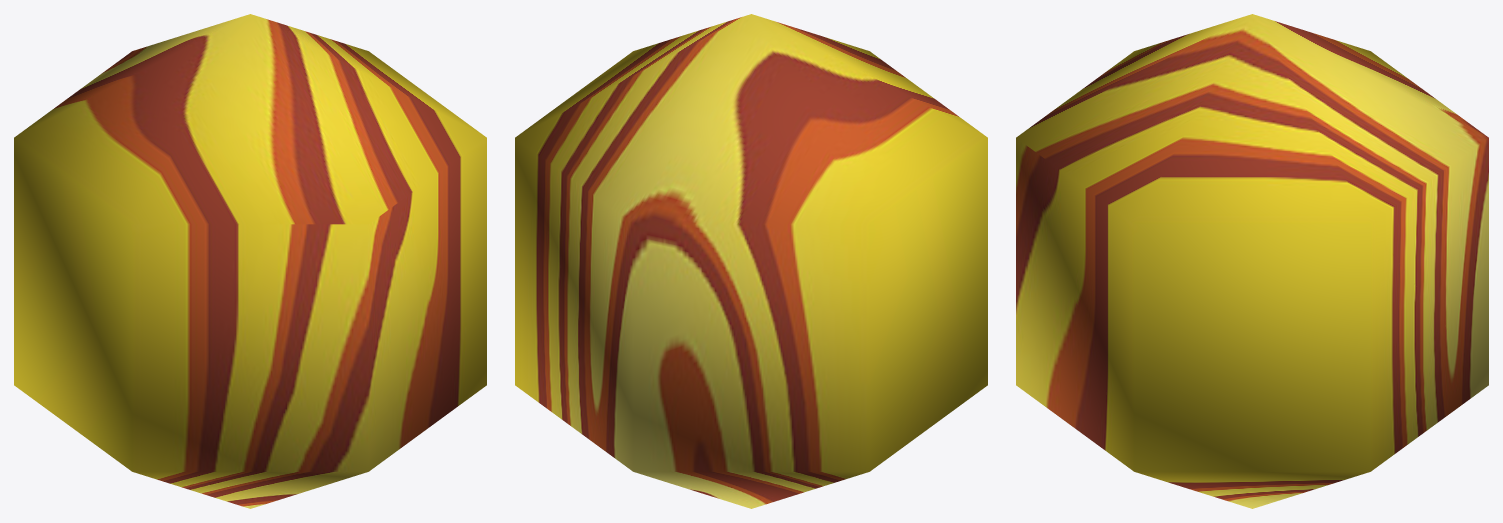
The model's file is sun_marble_shooter.DAE.
3 renders of one model, left to right at view 1: azimuth 30°, elevation 25°; view 2: azimuth 150°, elevation 25°; view 3: azimuth 270°, elevation 25°, orthographic.
Parts seen in each view (by area): view 1: Marble_Shooter; view 2: Marble_Shooter; view 3: Marble_Shooter.
Boxes of the visible parts, box(x1,y1,x2,y2) form: Marble_Shooter: box(14, 14, 486, 508); Marble_Shooter: box(515, 14, 987, 508); Marble_Shooter: box(1016, 14, 1488, 508).
Size of the model in its own units: 0.0381 by 0.044 by 0.0508.
1 material, 1 textured.
